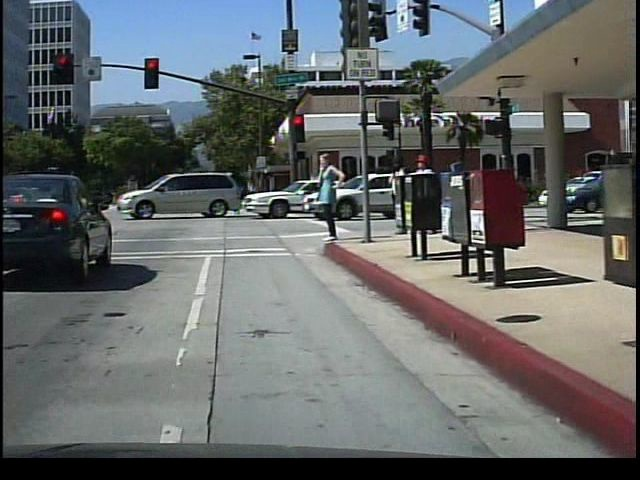person: (310, 147, 343, 246), (407, 147, 439, 238), (381, 149, 408, 234)
